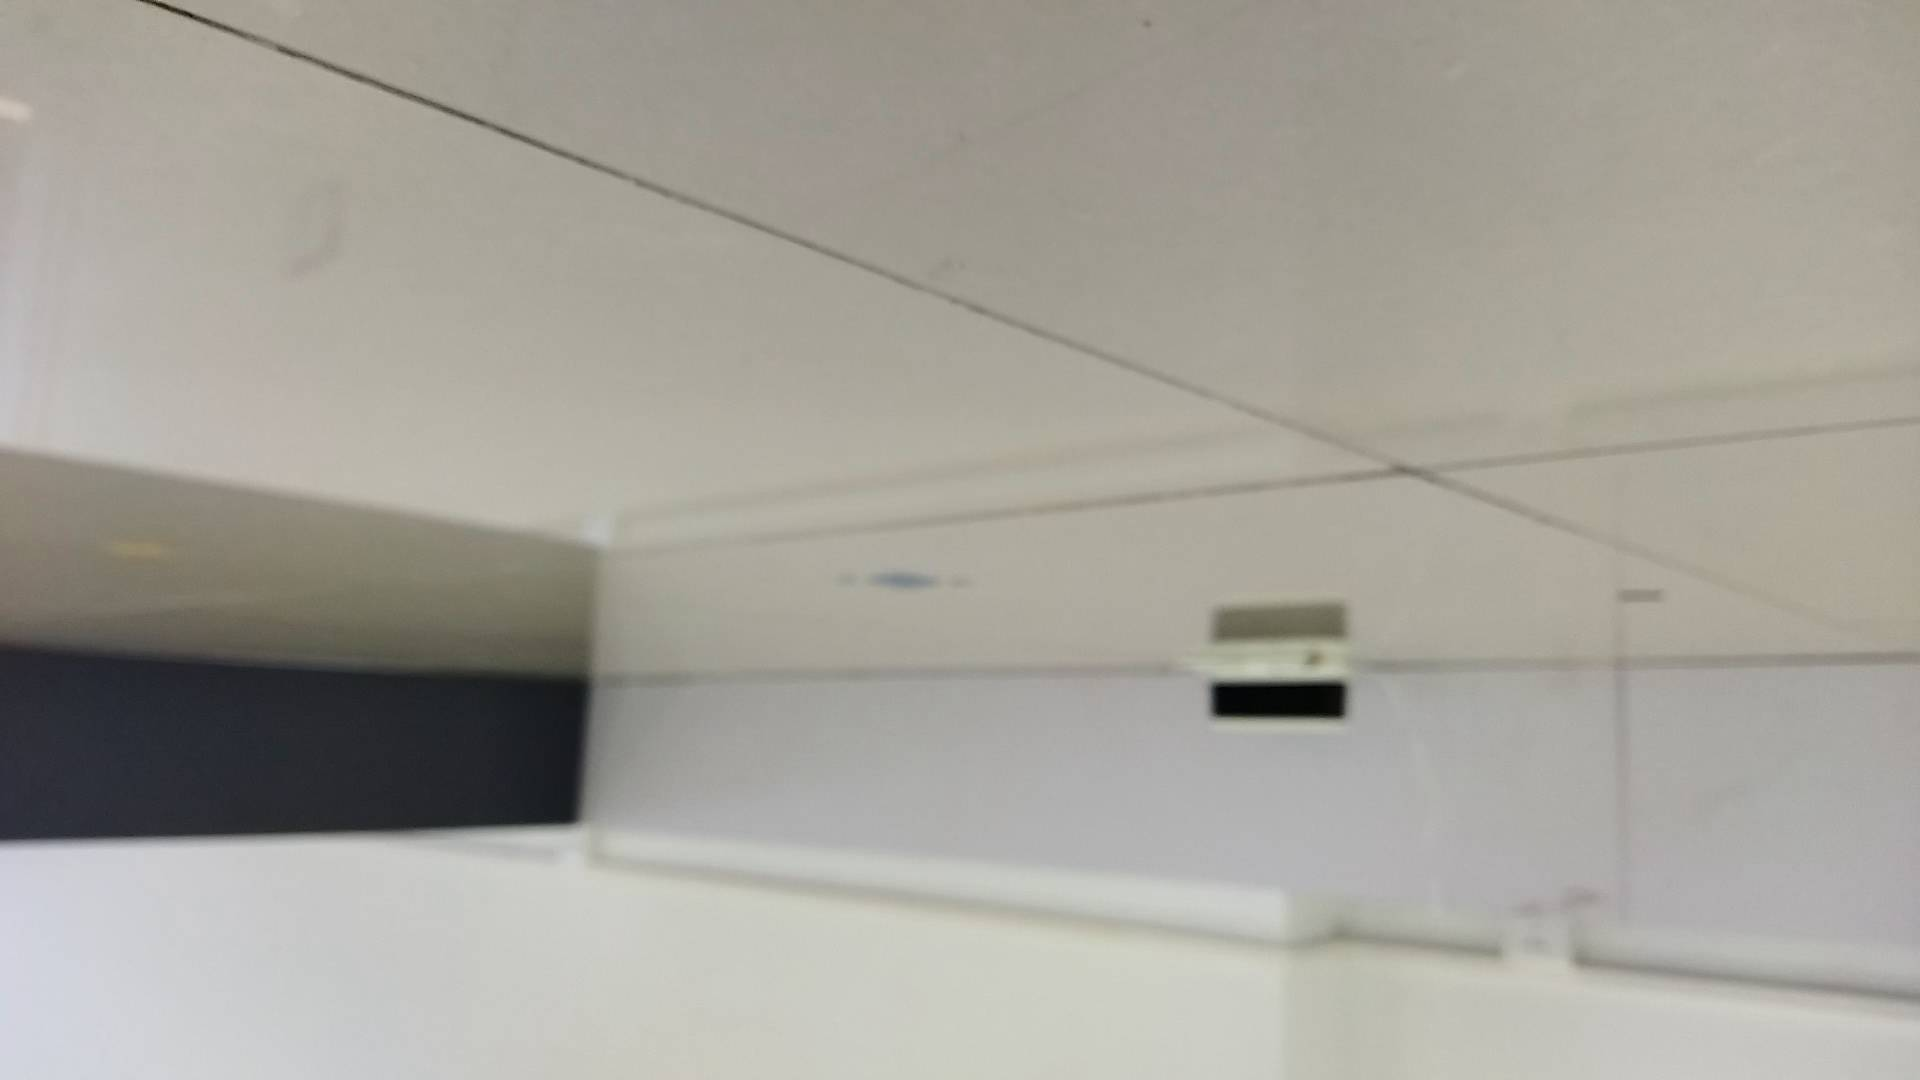recharge seat: (1164, 634, 1361, 736)
